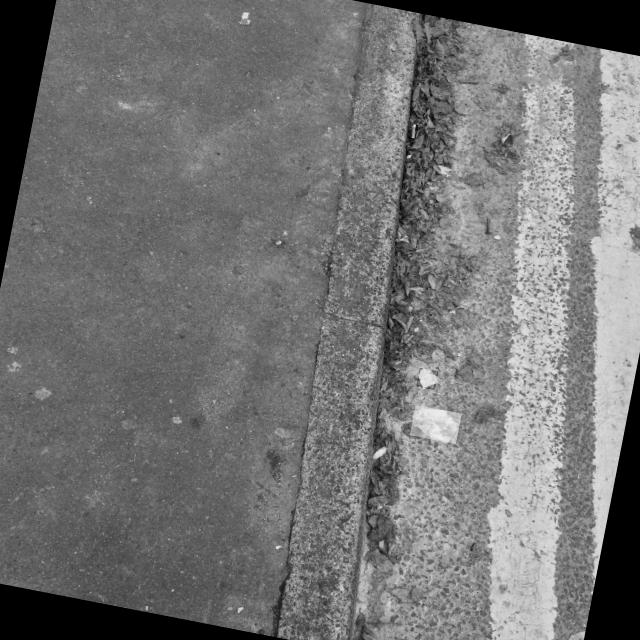Cigarette: (411, 124, 416, 140)
Plastic film: (413, 409, 459, 443)
Unlabeled litter: (418, 369, 437, 388)
